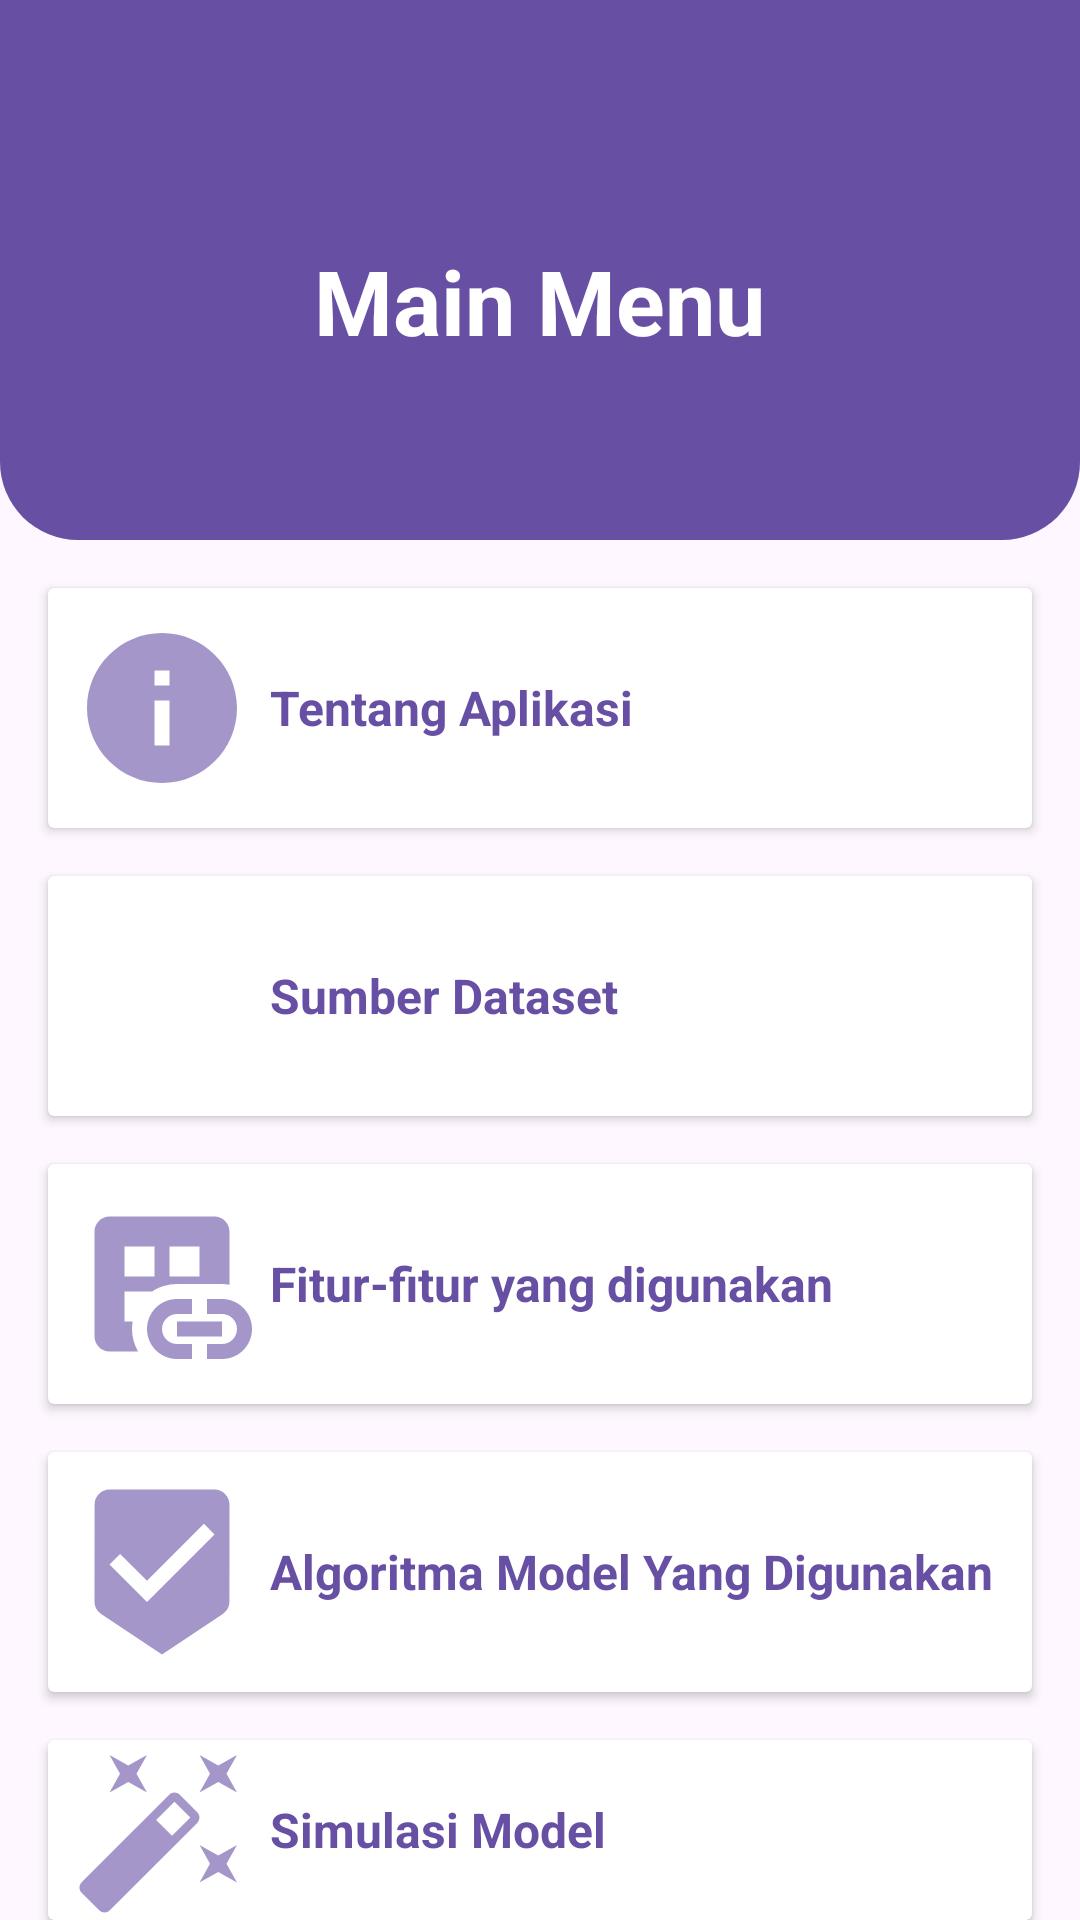

Screen size 1080x1920. Icon name, then its box in pixels as (x1, y1, x2, y2):
auto fix high: (79, 1755, 237, 1913)
beenhere: (94, 1489, 230, 1654)
dataset linked: (94, 1216, 252, 1359)
info: (87, 633, 237, 783)
